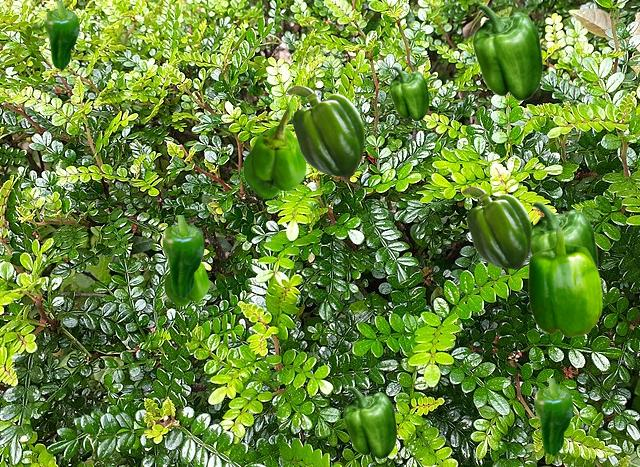bell_pepper: (528, 226, 601, 336), (286, 85, 363, 176), (472, 4, 542, 100), (243, 101, 305, 197), (461, 186, 530, 268), (530, 201, 597, 266), (343, 386, 396, 458), (162, 215, 203, 297), (534, 378, 572, 455), (44, 1, 78, 69), (389, 66, 428, 120), (164, 263, 208, 305)
